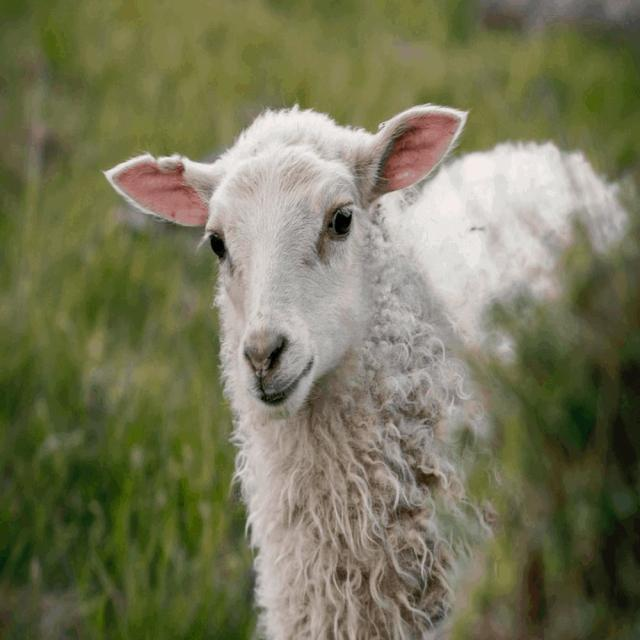Boar: (91, 85, 632, 632)
